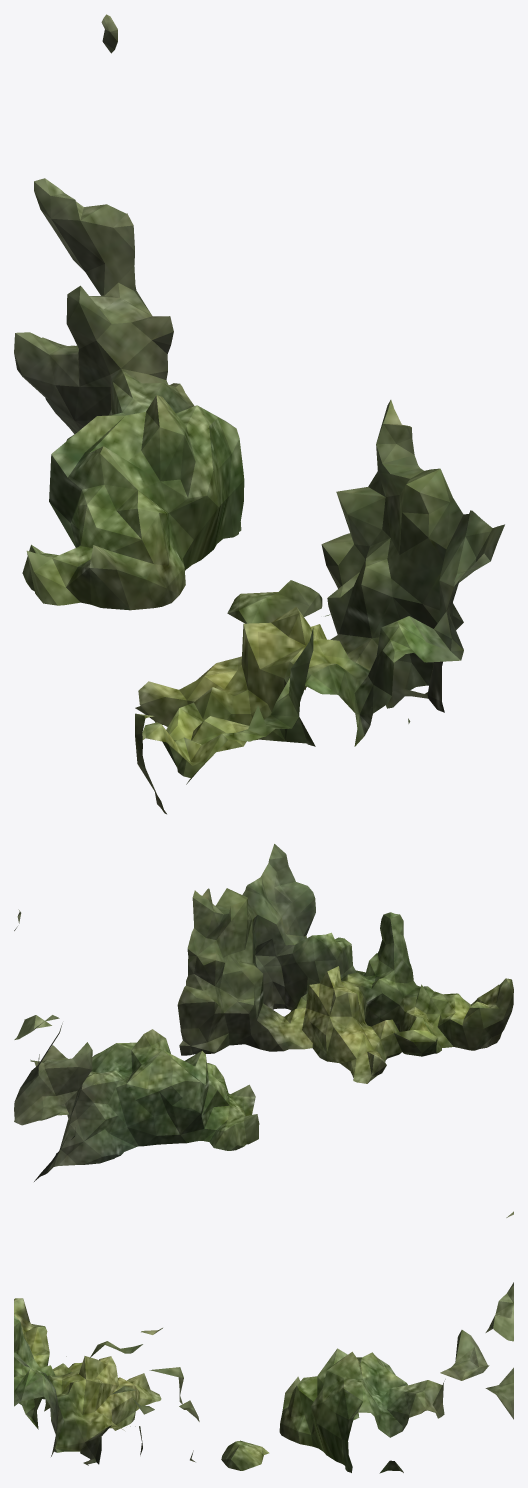
3 renders of one model, top to bottom at view 1: azimuth 30°, elevation 25°; view 2: azimuth 150°, elevation 25°; view 3: azimuth 270°, elevation 25°, orthographic. The views are drawn at different scales.
Size of the model in its own units: 6.32 by 6.8 by 11.8.
Materials: 2 (2 with a texture image).
